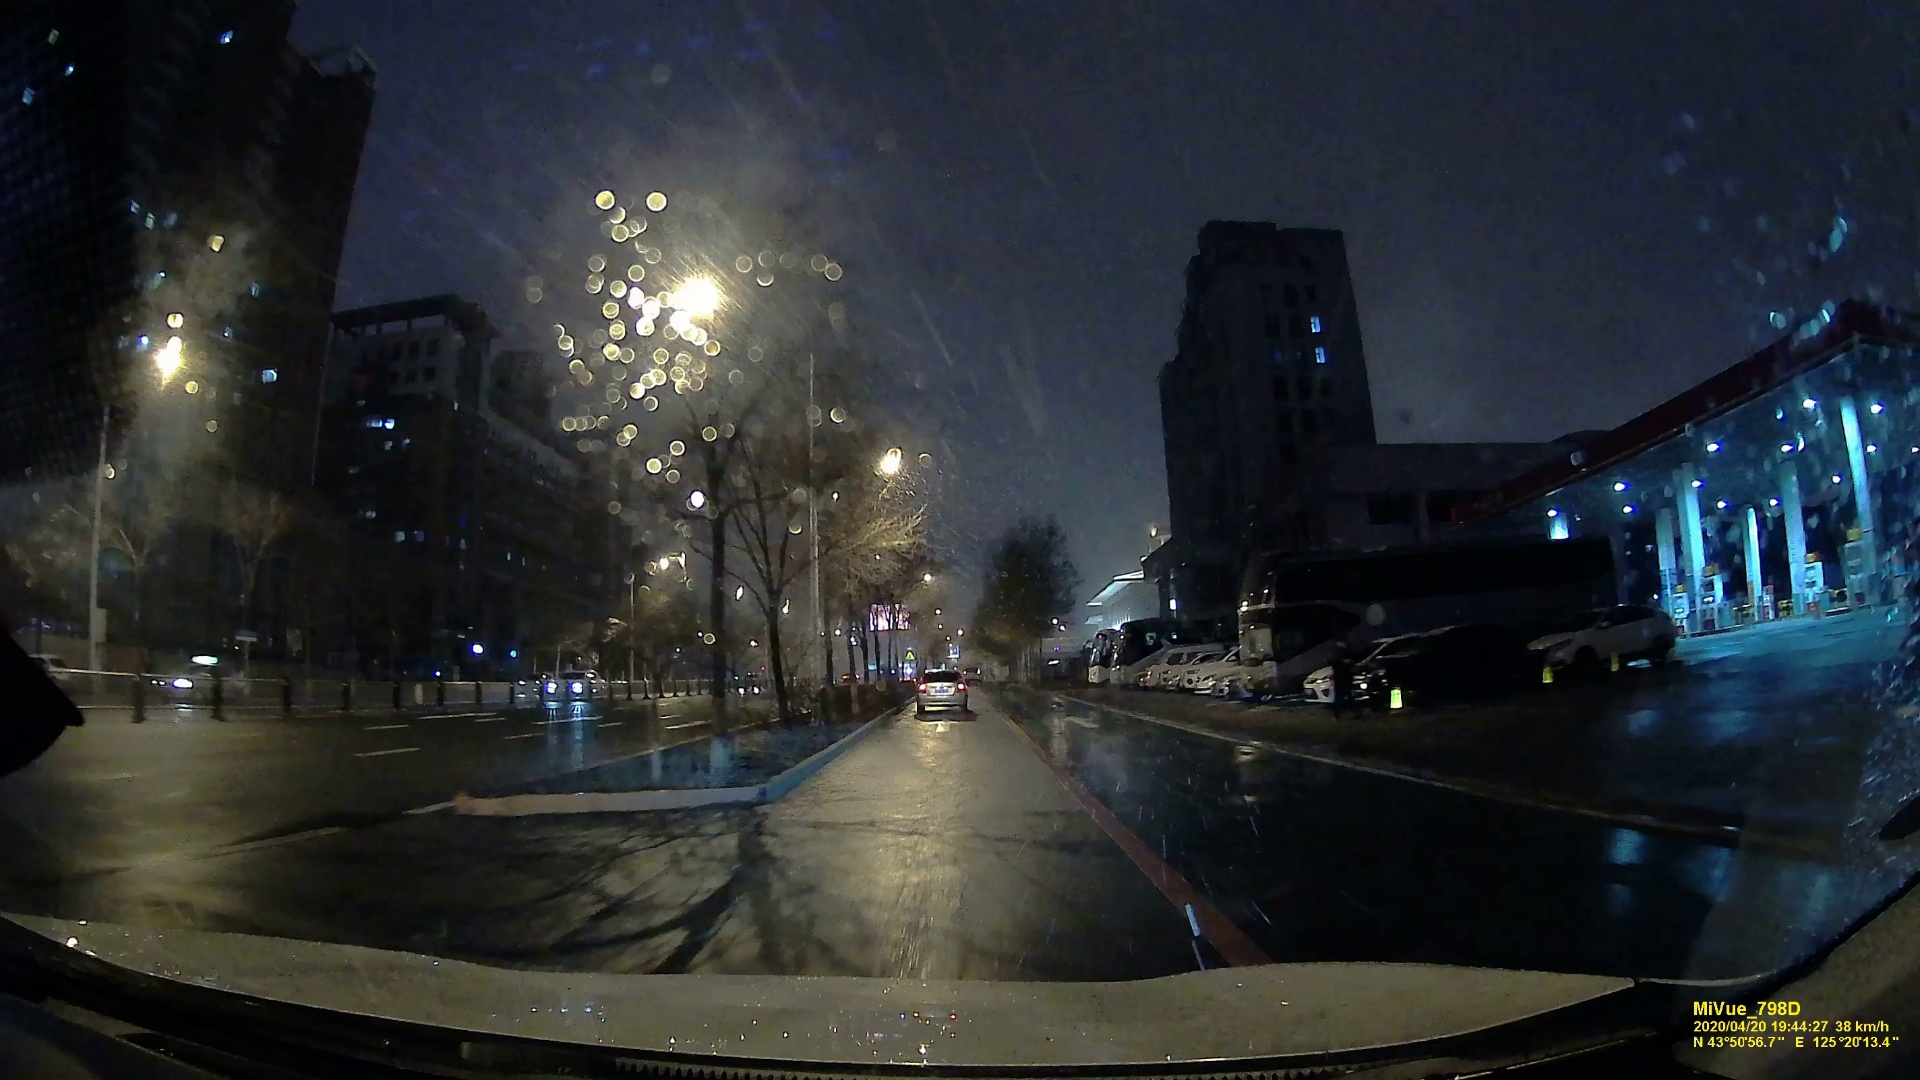bus: (1231, 533, 1620, 695), (1108, 620, 1181, 691)
person: (1324, 633, 1365, 724)
vehicle: (145, 664, 242, 697), (915, 670, 970, 715), (544, 669, 606, 700)
